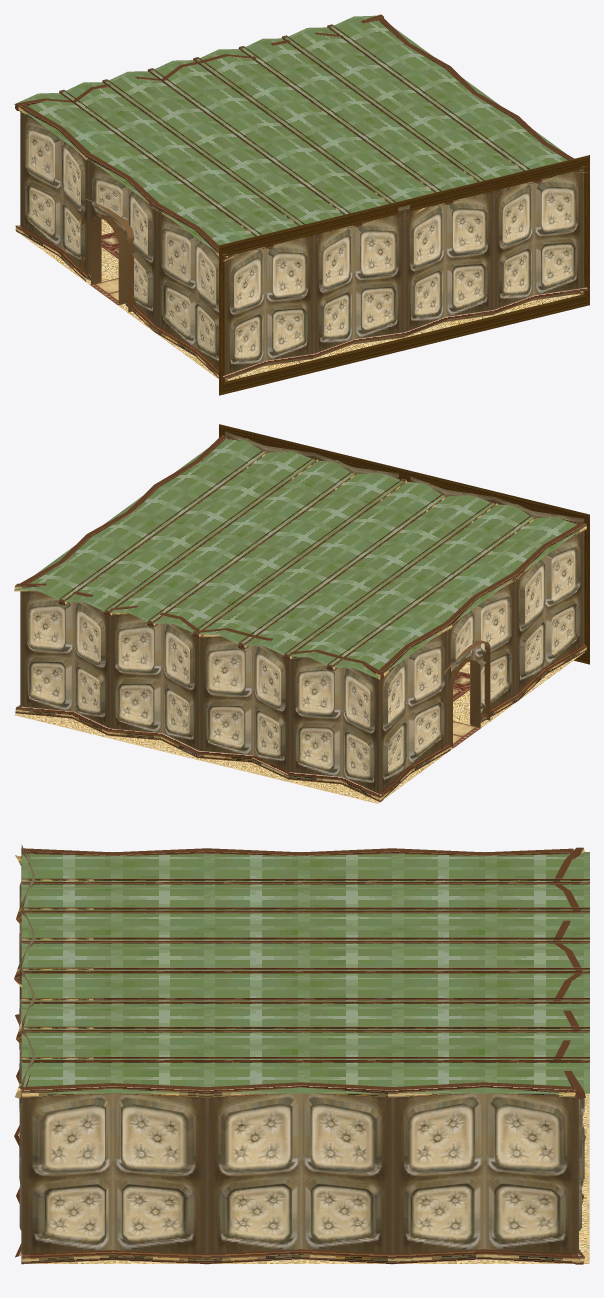
File: room_13.glb
3 views of the same model, one above another, from view 1: azimuth 30°, elevation 25°; view 2: azimuth 150°, elevation 25°; view 3: azimuth 270°, elevation 25° (orthographic). The views are drawn at different scales.
Visible parts, largest first — view 1: room_13; view 2: room_13; view 3: room_13.
Boxes of the visible parts, x1,y1,x2,y2 form: room_13: [14, 14, 589, 395]; room_13: [14, 424, 589, 803]; room_13: [14, 845, 589, 1264].
Size of the model in its own units: 1550 by 600 by 1530.
7 materials, 7 textured.
